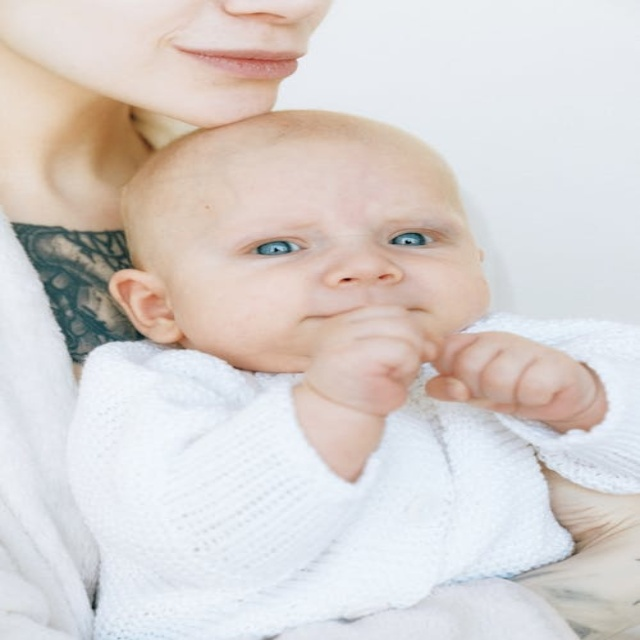Sin_gafas: (221, 210, 453, 265)
Sin_guantes: (430, 321, 605, 436), (315, 300, 422, 401)
Sin_mascara: (141, 22, 303, 84), (292, 296, 444, 339)
